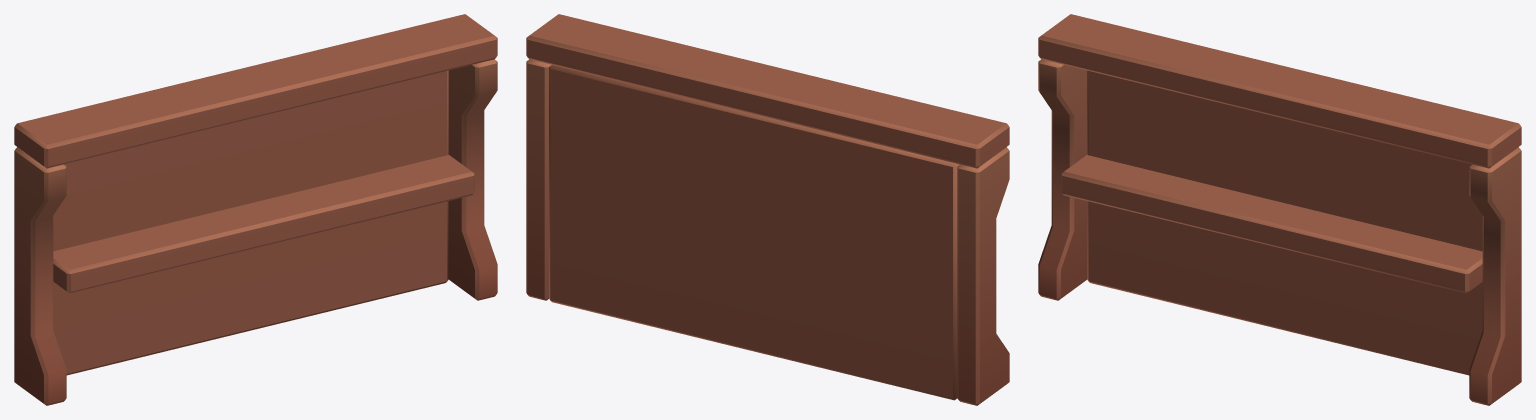
File: bartop_A_large.glb
3 renders of one model, left to right at view 1: azimuth 30°, elevation 25°; view 2: azimuth 150°, elevation 25°; view 3: azimuth 330°, elevation 25°, orthographic.
Parts seen in each view (by area): view 1: bartop_A_large; view 2: bartop_A_large; view 3: bartop_A_large.
Part boxes in pixels (x1,y1,x2,y2): bartop_A_large: [14, 14, 497, 405]; bartop_A_large: [526, 14, 1009, 405]; bartop_A_large: [1038, 14, 1521, 405].
Size of the model in its own units: 4 by 2.2 by 0.5.
1 material, 1 textured.
